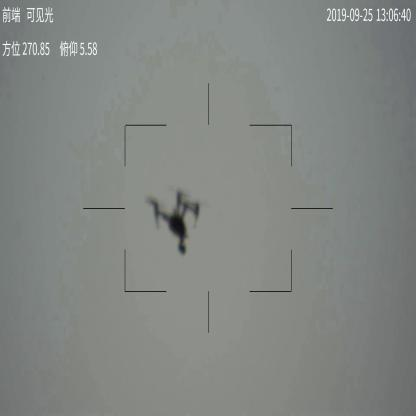uav: (148, 189, 204, 255)
